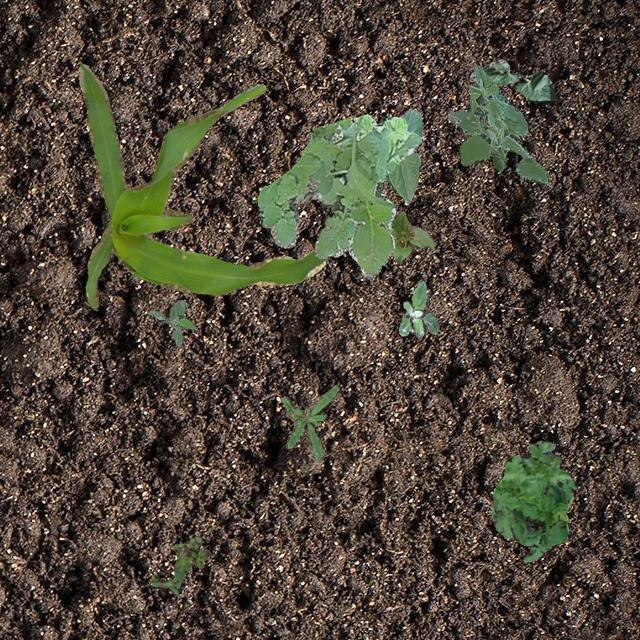crop: (78, 60, 326, 306), (468, 58, 558, 104), (386, 108, 422, 200), (388, 210, 434, 264)
weed: (256, 113, 420, 280), (446, 64, 550, 182), (491, 440, 576, 562), (280, 384, 338, 462), (150, 534, 208, 594), (150, 298, 197, 346), (398, 280, 438, 336)
